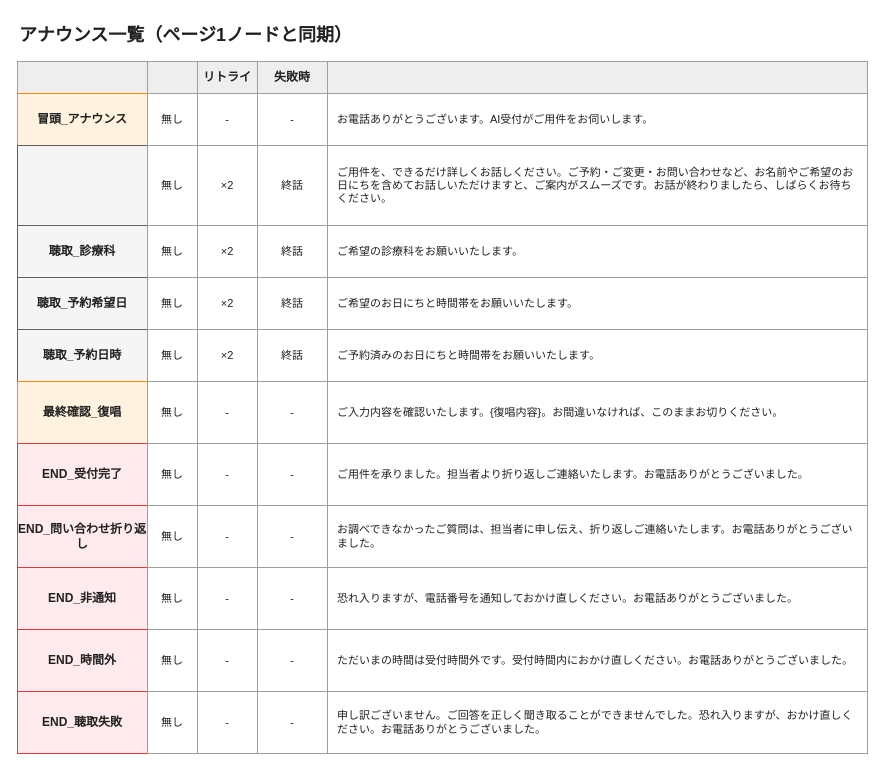
This 885x771 diagram has some shape labels left out. Each missing label, with the box of its shape:
復唱: (146, 60, 198, 94)
用件フリー聴取: (16, 144, 148, 226)
発話文言: (326, 60, 868, 94)
聴取項目: (16, 60, 148, 94)
